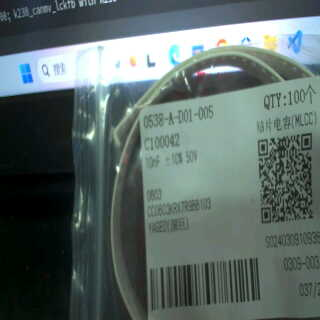10nF: (143, 153, 163, 170)
